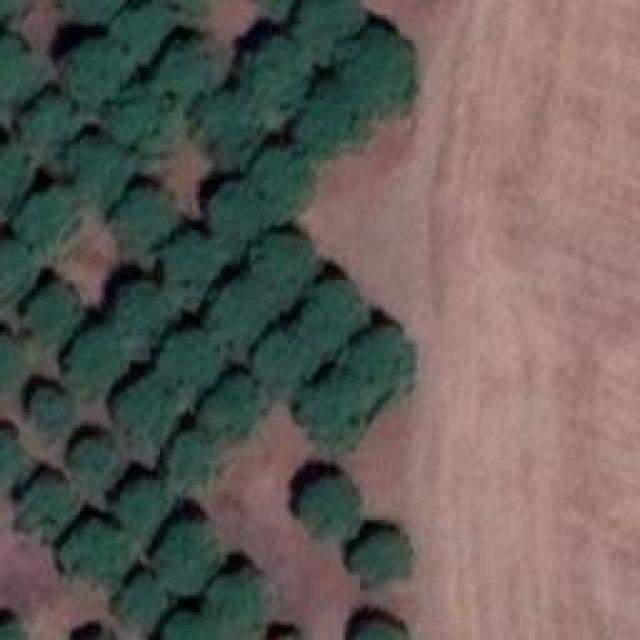Tree: (243, 40, 321, 105), (358, 40, 425, 114), (298, 380, 359, 457), (153, 520, 219, 591), (298, 90, 364, 157), (255, 325, 320, 393), (75, 135, 135, 207), (62, 32, 121, 103), (295, 278, 360, 342), (355, 325, 418, 389), (160, 35, 221, 101), (210, 278, 269, 346), (20, 90, 80, 156), (70, 431, 128, 498), (68, 520, 133, 579), (302, 478, 361, 543), (210, 570, 266, 638), (20, 190, 82, 251), (118, 190, 178, 252), (118, 83, 178, 144), (253, 233, 312, 293), (115, 378, 172, 440), (295, 0, 359, 55), (70, 330, 124, 394), (350, 525, 406, 586), (210, 177, 267, 235), (262, 150, 320, 207), (115, 485, 171, 544), (23, 273, 73, 339), (203, 380, 262, 435), (165, 240, 219, 300), (200, 98, 255, 156), (118, 573, 172, 628), (15, 477, 66, 535), (173, 335, 224, 393), (108, 8, 163, 58), (113, 282, 168, 329), (0, 33, 35, 106), (28, 383, 69, 433), (170, 440, 209, 488), (0, 235, 27, 302), (152, 0, 211, 29), (0, 143, 22, 220), (345, 617, 413, 640), (245, 0, 302, 25), (52, 0, 119, 21), (2, 430, 23, 488), (0, 333, 18, 400), (157, 617, 207, 640)
